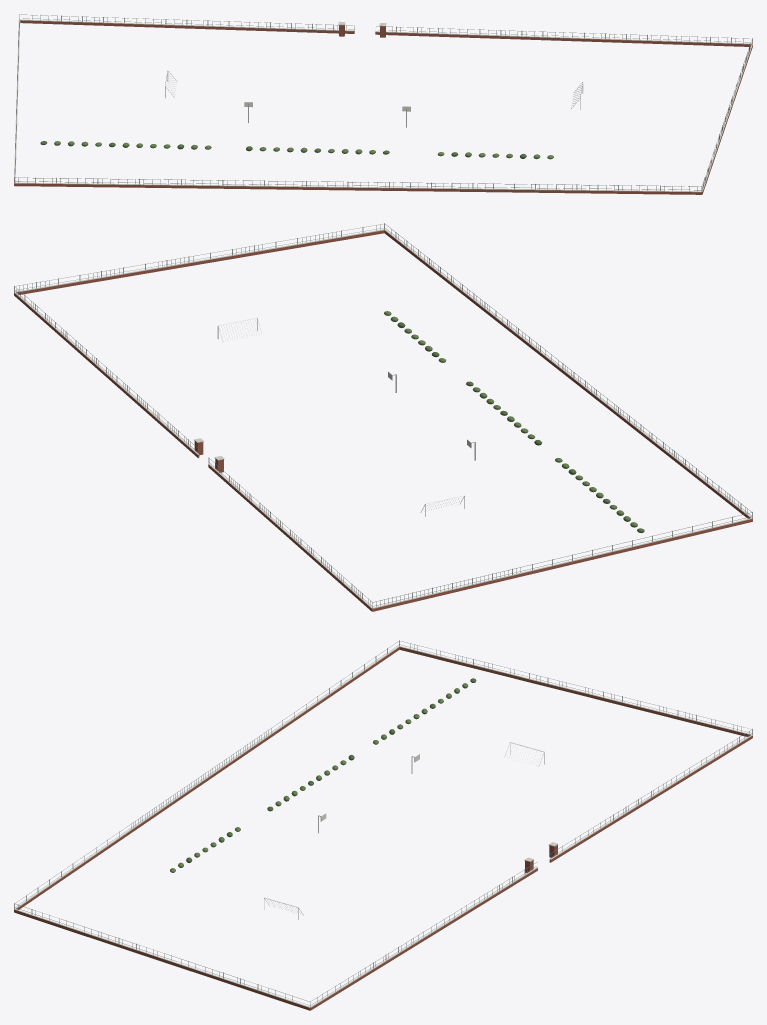
The picture shows the model from 3 angles, top to bottom: view 1: azimuth 30°, elevation 25°; view 2: azimuth 150°, elevation 25°; view 3: azimuth 270°, elevation 25°; orthographic projection. The views are drawn at different scales.
Visible parts, largest first — view 1: prop_boundary-fence, prop_flowerbeds; view 2: prop_boundary-fence, prop_flowerbeds; view 3: prop_boundary-fence, prop_flowerbeds.
Boxes of the visible parts, bbox=[...] form: prop_boundary-fence: bbox=[14, 14, 752, 194]; prop_flowerbeds: bbox=[40, 141, 553, 159]; prop_boundary-fence: bbox=[14, 223, 752, 611]; prop_flowerbeds: bbox=[384, 311, 644, 532]; prop_boundary-fence: bbox=[14, 640, 752, 1010]; prop_flowerbeds: bbox=[170, 678, 476, 872].
Size of the model in its own units: 152 by 3.95 by 132.
